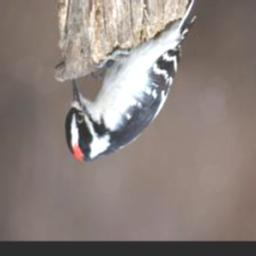Woodpecker: (62, 0, 208, 165)
